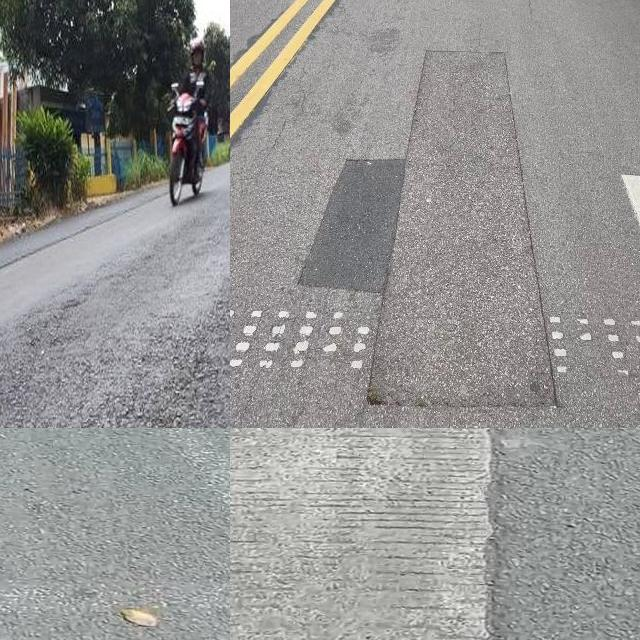Sambungan: (297, 51, 557, 401), (230, 428, 495, 640), (0, 189, 230, 428)
